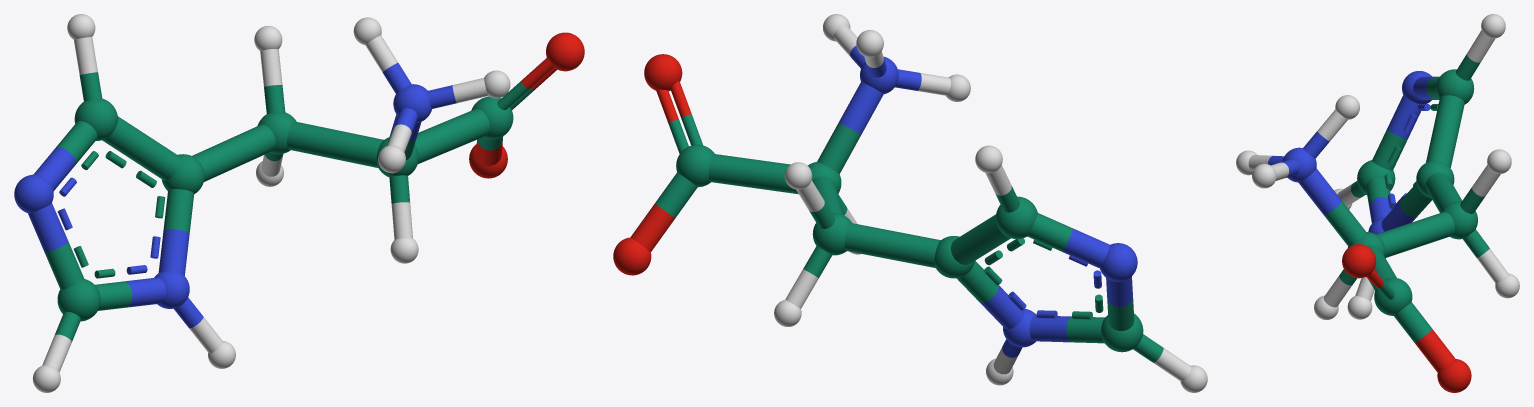
The model's file is HIS.PDB.glb.
The picture shows the model from 3 angles, left to right: view 1: azimuth 30°, elevation 25°; view 2: azimuth 150°, elevation 25°; view 3: azimuth 270°, elevation 25°; orthographic projection. The views are drawn at different scales.
Bounding box in the file's own units: 7.57 × 4.15 × 3.79.
